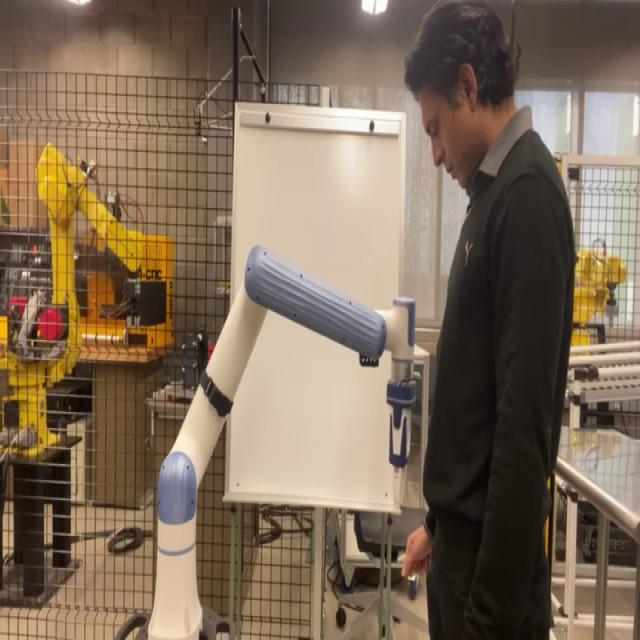robot: (115, 243, 425, 637)
